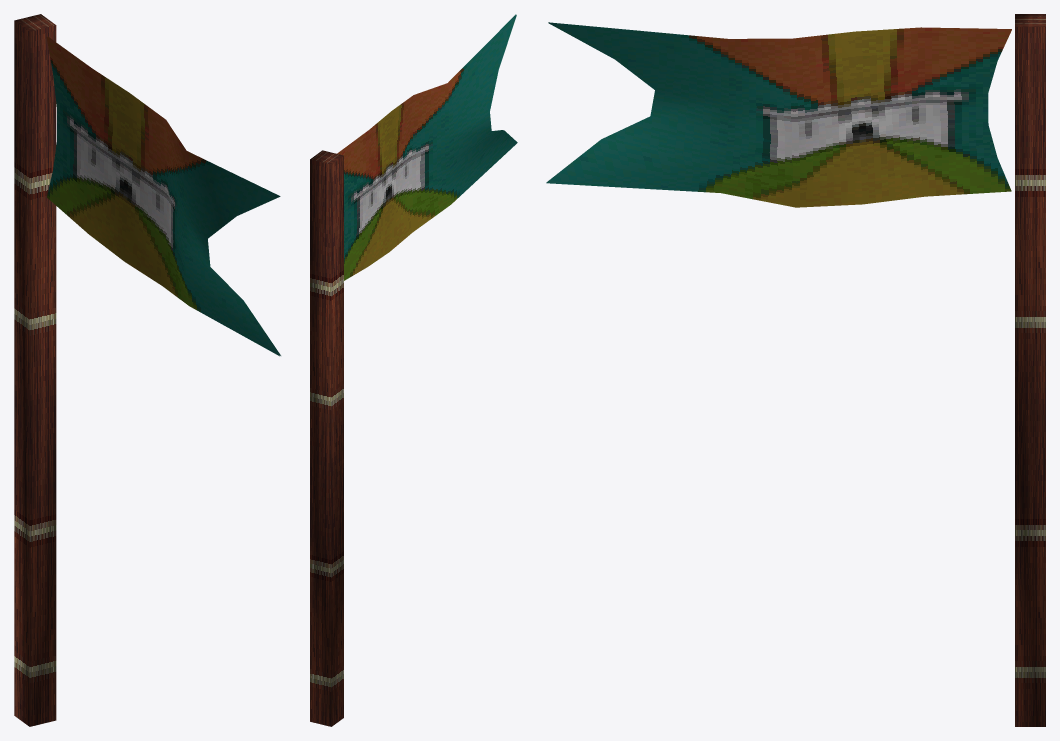
The model's file is QEYFLAG_ACTORDEF.fbx.
The picture shows the model from 3 angles, left to right: view 1: azimuth 30°, elevation 25°; view 2: azimuth 150°, elevation 25°; view 3: azimuth 270°, elevation 25°; orthographic projection. The views are drawn at different scales.
Parts seen in each view (by area): view 1: T_QEYFLAG_MDF, T_COUNTERFRNT_MDF; view 2: T_QEYFLAG_MDF, T_COUNTERFRNT_MDF; view 3: T_QEYFLAG_MDF, T_COUNTERFRNT_MDF.
Boxes of the visible parts, x1,y1,x2,y2 form: T_QEYFLAG_MDF: (46,36,280,356); T_COUNTERFRNT_MDF: (14,14,56,726); T_QEYFLAG_MDF: (337,14,517,280); T_COUNTERFRNT_MDF: (310,150,343,726); T_QEYFLAG_MDF: (546,22,1011,207); T_COUNTERFRNT_MDF: (1015,14,1045,726).
Size of the model in its own units: 1.15 by 25.02 by 16.18.
